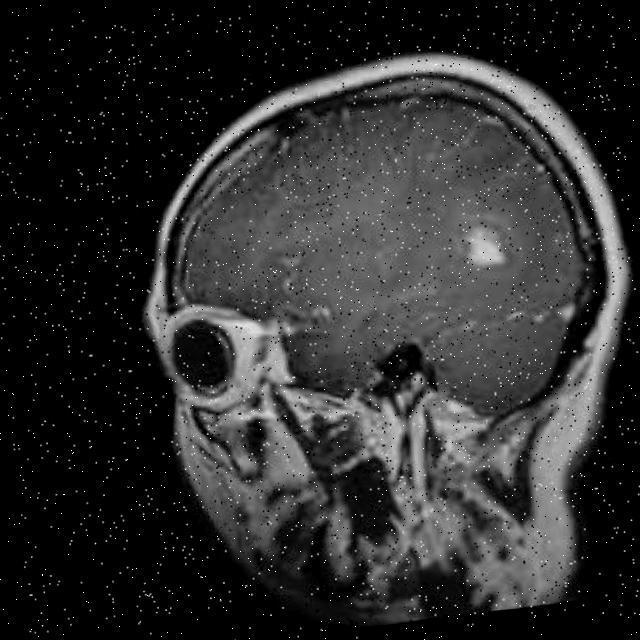MCI: (422, 192, 542, 328)
